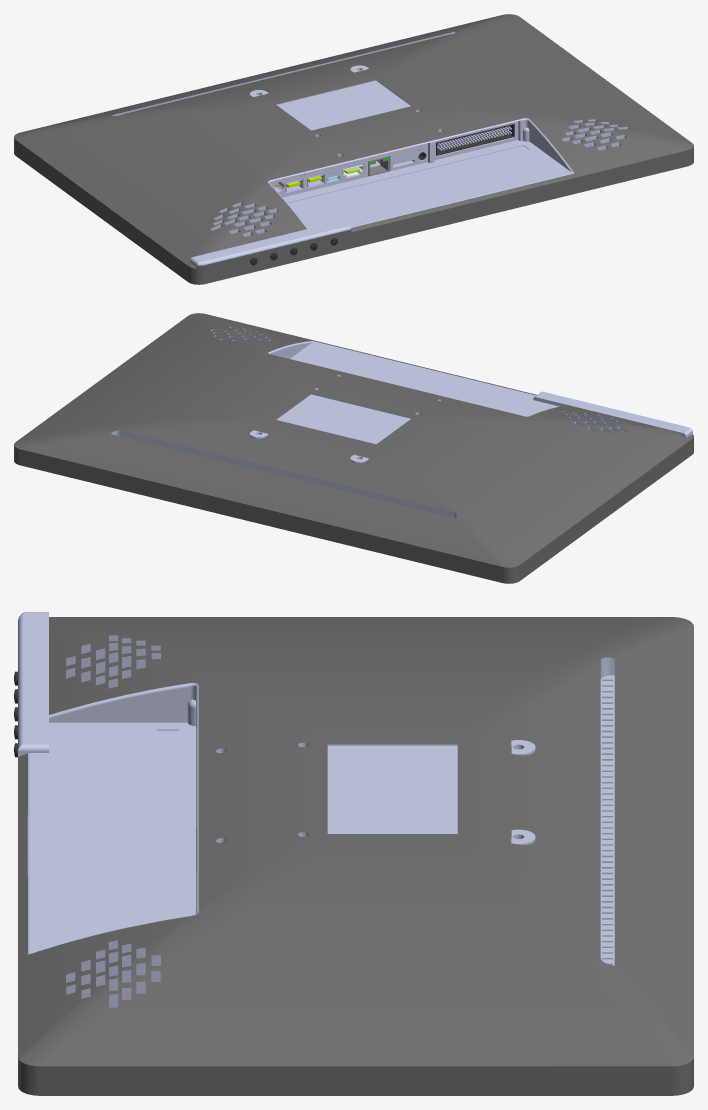
The model's file is AIO-CM4-156.fbx.
The picture shows the model from 3 angles, top to bottom: view 1: azimuth 30°, elevation 25°; view 2: azimuth 150°, elevation 25°; view 3: azimuth 270°, elevation 25°; orthographic projection. The views are drawn at different scales.
Parts seen in each view (by area): view 1: Part 159, Part 150, Part 151; view 2: Part 159, Part 150; view 3: Part 159, Part 150.
Boxes of the visible parts, x1,y1,x2,y2 form: Part 159: (14, 14, 693, 284); Part 150: (111, 31, 629, 267); Part 151: (418, 124, 514, 159); Part 159: (14, 313, 693, 583); Part 150: (111, 326, 692, 517); Part 159: (18, 617, 693, 1095); Part 150: (18, 612, 614, 1007).
Bounding box in the file's own units: 37.6 × 3.2 × 24.04.
